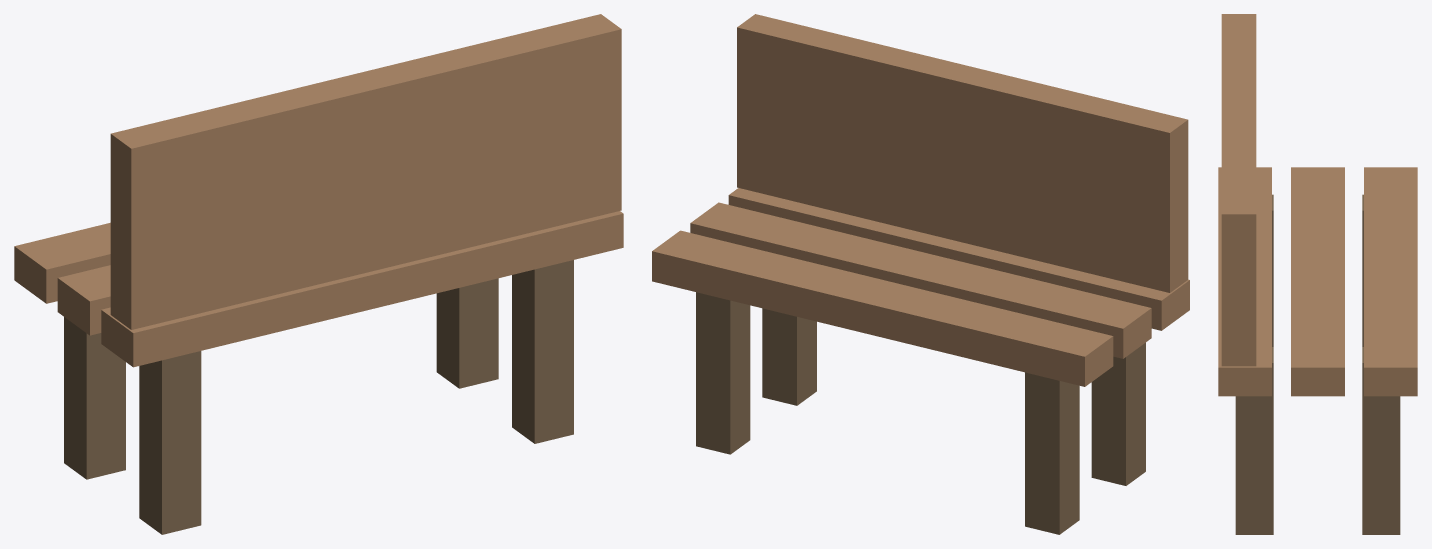
File: garden.bench-old.glb
The picture shows the model from 3 angles, left to right: view 1: azimuth 30°, elevation 25°; view 2: azimuth 150°, elevation 25°; view 3: azimuth 270°, elevation 25°; orthographic projection. The views are drawn at different scales.
Visible parts, largest first — view 1: bench leg; view 2: bench leg; view 3: bench leg.
Part boxes in pixels (x1,y1,x2,y2): bench leg: (14,14,623,534); bench leg: (652,14,1189,534); bench leg: (1218,14,1417,534).
Size of the model in its own units: 1.5 by 1.17 by 0.63.
